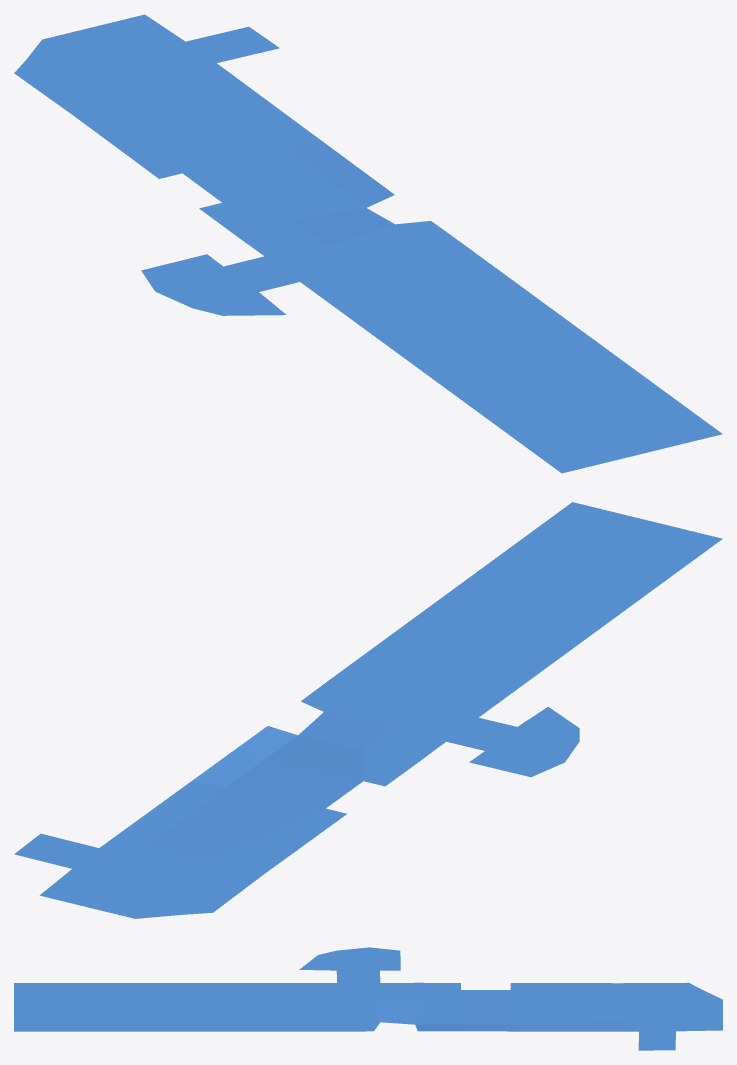
The model's file is tutNAV2.glb.
The picture shows the model from 3 angles, top to bottom: view 1: azimuth 30°, elevation 25°; view 2: azimuth 150°, elevation 25°; view 3: azimuth 270°, elevation 25°; orthographic projection. The views are drawn at different scales.
Visible parts, largest first — view 1: Plane.035; view 2: Plane.035; view 3: Plane.035.
Boxes of the visible parts, x1=… form: Plane.035: x1=14, y1=14, x2=722, y2=473; Plane.035: x1=14, y1=502, x2=722, y2=918; Plane.035: x1=14, y1=947, x2=722, y2=1050.
Bounding box in the file's own units: 32.88 × 0.3784 × 95.38.
